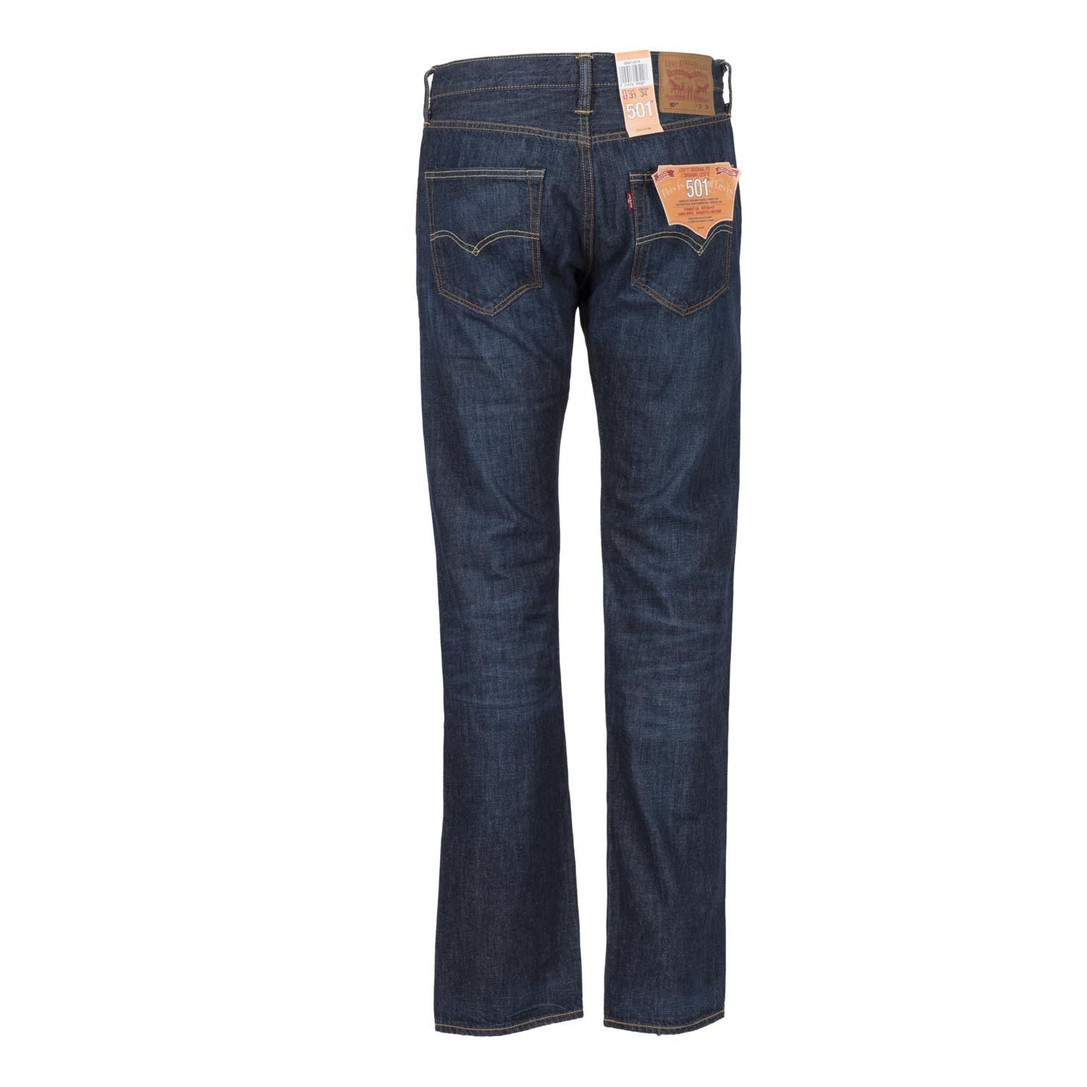jeans: (404, 36, 751, 1046)
